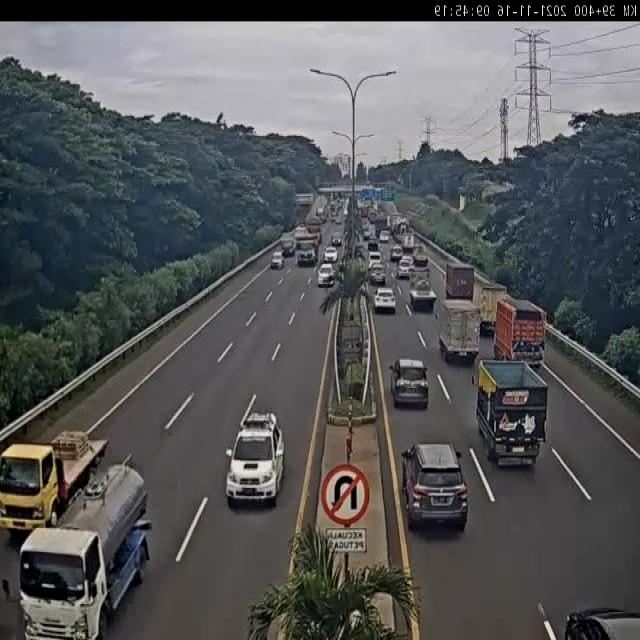Car: (401, 443, 469, 530), (225, 409, 285, 507), (389, 357, 430, 409), (408, 276, 436, 310), (372, 286, 397, 314), (317, 263, 336, 288), (368, 264, 386, 285), (397, 260, 411, 279), (324, 246, 338, 264), (271, 251, 285, 269), (368, 250, 382, 268), (390, 245, 403, 261), (362, 226, 372, 241), (342, 200, 350, 218), (379, 230, 390, 243), (332, 233, 342, 247), (368, 238, 378, 252), (332, 214, 340, 223)
Truck: (17, 460, 151, 636), (1, 429, 109, 533), (474, 357, 547, 464), (493, 295, 548, 368), (438, 299, 480, 365), (446, 262, 475, 302), (295, 229, 320, 265), (411, 244, 428, 269), (388, 215, 402, 238), (281, 238, 296, 257), (334, 192, 350, 206), (348, 199, 358, 219), (354, 242, 365, 260), (339, 255, 349, 272), (316, 205, 325, 221), (360, 206, 370, 220), (371, 201, 378, 215)
